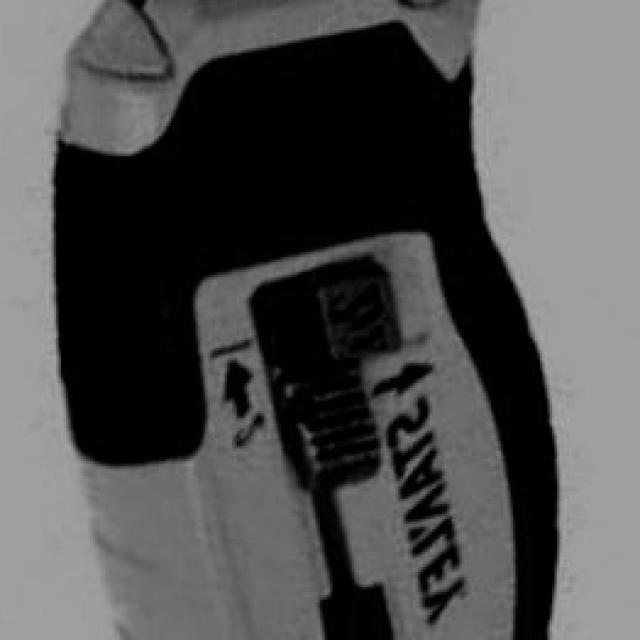estilete: (55, 0, 557, 640)
